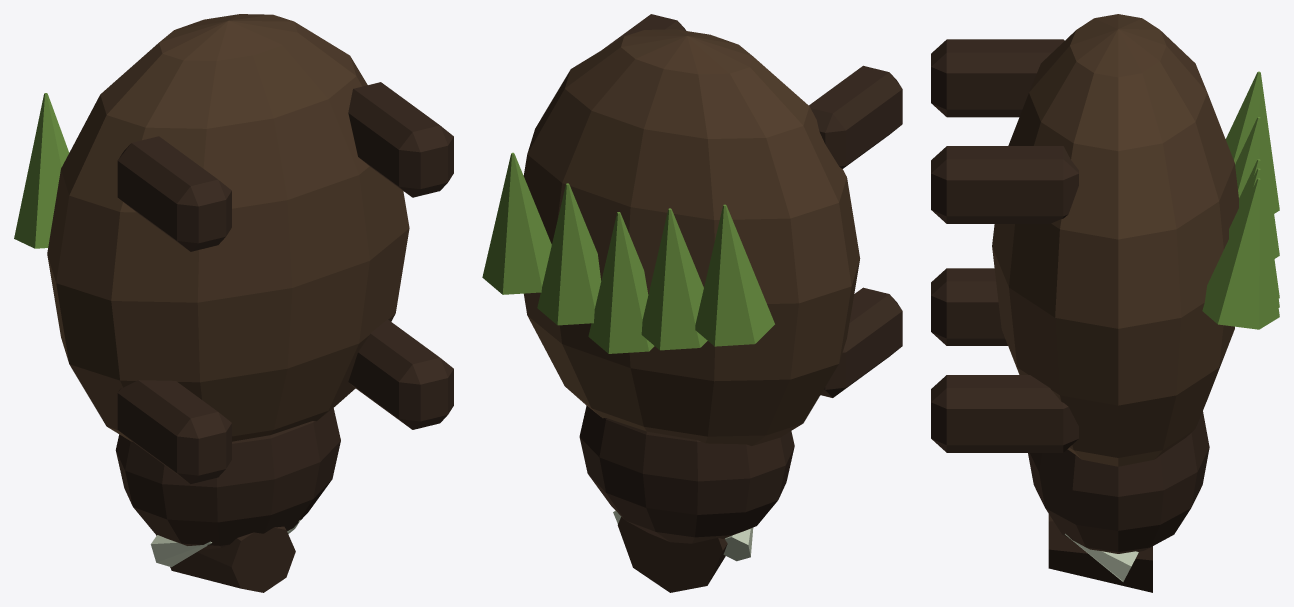
File: Brambleback.glb
The picture shows the model from 3 angles, left to right: view 1: azimuth 30°, elevation 25°; view 2: azimuth 150°, elevation 25°; view 3: azimuth 270°, elevation 25°; orthographic projection. The views are drawn at different scales.
Visible parts, largest first — view 1: Body, Head, BackLeftLeg, FrontLeftLeg, BackRightLeg, FrontRightLeg, Snout, Thorn, Tusk; view 2: Body, Head, Thorn, BackLeftLeg, Thorn.004, Thorn.003, Thorn.001, Thorn.002, FrontLeftLeg, Snout, Tusk, BackRightLeg; view 3: Body, Head, BackRightLeg, FrontRightLeg, BackLeftLeg, Thorn.004, FrontLeftLeg, Snout, Thorn, Thorn.001, Tusk.001, Thorn.003 (+1 smaller).
Part boxes in pixels (<box>): Body: <box>47,14,409,441</box>; Head: <box>115,408,340,549</box>; BackLeftLeg: <box>117,136,231,251</box>; FrontLeftLeg: <box>117,380,231,483</box>; BackRightLeg: <box>348,82,453,197</box>; FrontRightLeg: <box>348,319,453,429</box>; Snout: <box>156,526,295,592</box>; Thorn: <box>14,93,69,248</box>; Tusk: <box>150,535,211,567</box>; Body: <box>523,29,860,445</box>; Head: <box>579,405,794,543</box>; Thorn: <box>695,204,774,346</box>; BackLeftLeg: <box>809,65,902,168</box>; Thorn.004: <box>482,152,551,294</box>; Thorn.003: <box>537,183,601,325</box>; Thorn.001: <box>641,208,707,350</box>; Thorn.002: <box>588,212,654,353</box>; FrontLeftLeg: <box>820,287,902,397</box>; Snout: <box>617,517,727,592</box>; Tusk: <box>723,527,753,561</box>; BackRightLeg: <box>602,14,686,49</box>; Body: <box>992,14,1238,466</box>; Head: <box>1028,411,1209,553</box>; BackRightLeg: <box>931,146,1078,223</box>; FrontRightLeg: <box>931,375,1078,452</box>; BackLeftLeg: <box>931,39,1064,117</box>; Thorn.004: <box>1202,178,1279,329</box>; FrontLeftLeg: <box>931,268,1007,345</box>; Snout: <box>1048,514,1152,592</box>; Thorn: <box>1225,71,1279,213</box>; Thorn.001: <box>1235,117,1279,258</box>; Tusk.001: <box>1065,533,1138,581</box>; Thorn.003: <box>1229,168,1279,307</box>.
Size of the model in its own units: 4.5 by 7.12 by 4.01.
Materials: 1 (1 with a texture image).
